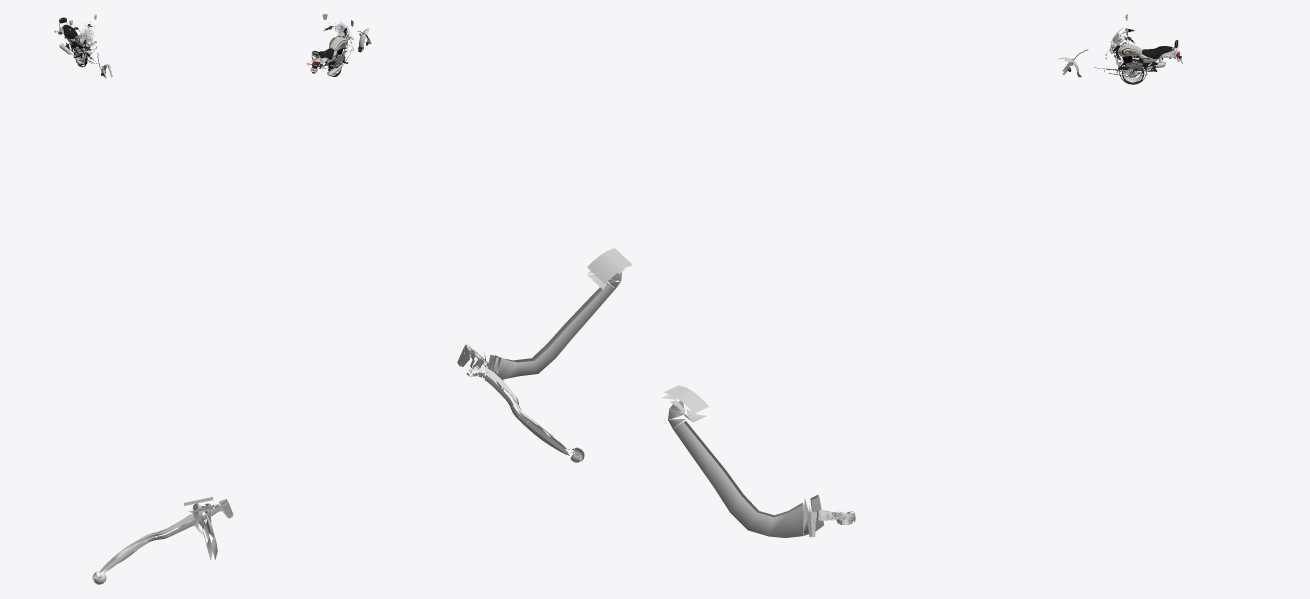
File: bajaj_avenger_cruise.glb
3 renders of one model, left to right at view 1: azimuth 30°, elevation 25°; view 2: azimuth 150°, elevation 25°; view 3: azimuth 270°, elevation 25°, orthographic. The views are drawn at different scales.
Parts seen in each view (by area): view 1: B_pasted__polySurface2807, B_pasted__Object165; view 2: B_pasted__Object165, B_pasted__polySurface2807; view 3: B_pasted__Object165.
Part boxes in pixels (box(x1,y1,x2,y2)): B_pasted__polySurface2807: box(92, 499, 233, 584); B_pasted__Object165: box(183, 497, 217, 560); B_pasted__Object165: box(484, 248, 632, 381); B_pasted__polySurface2807: box(457, 344, 584, 462); B_pasted__Object165: box(662, 385, 823, 537).
Size of the model in its own units: 1.93 by 6.67 by 6.81.
42 materials, 8 textured.
